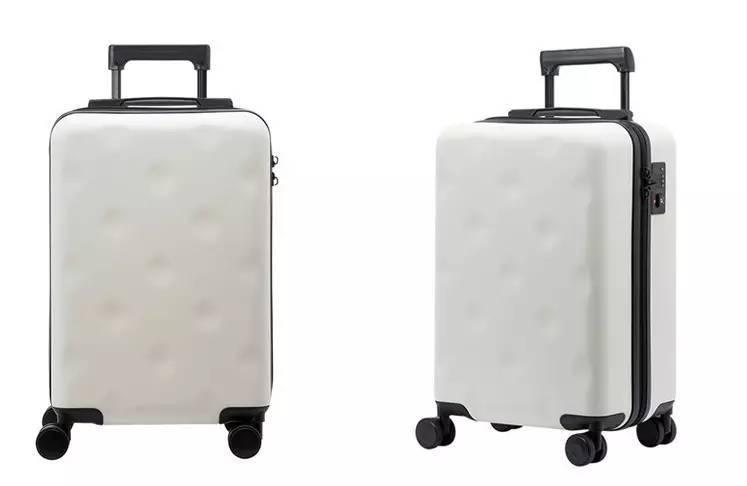luggage: (34, 43, 281, 459)
suitcase: (416, 45, 680, 465), (36, 41, 282, 461)
